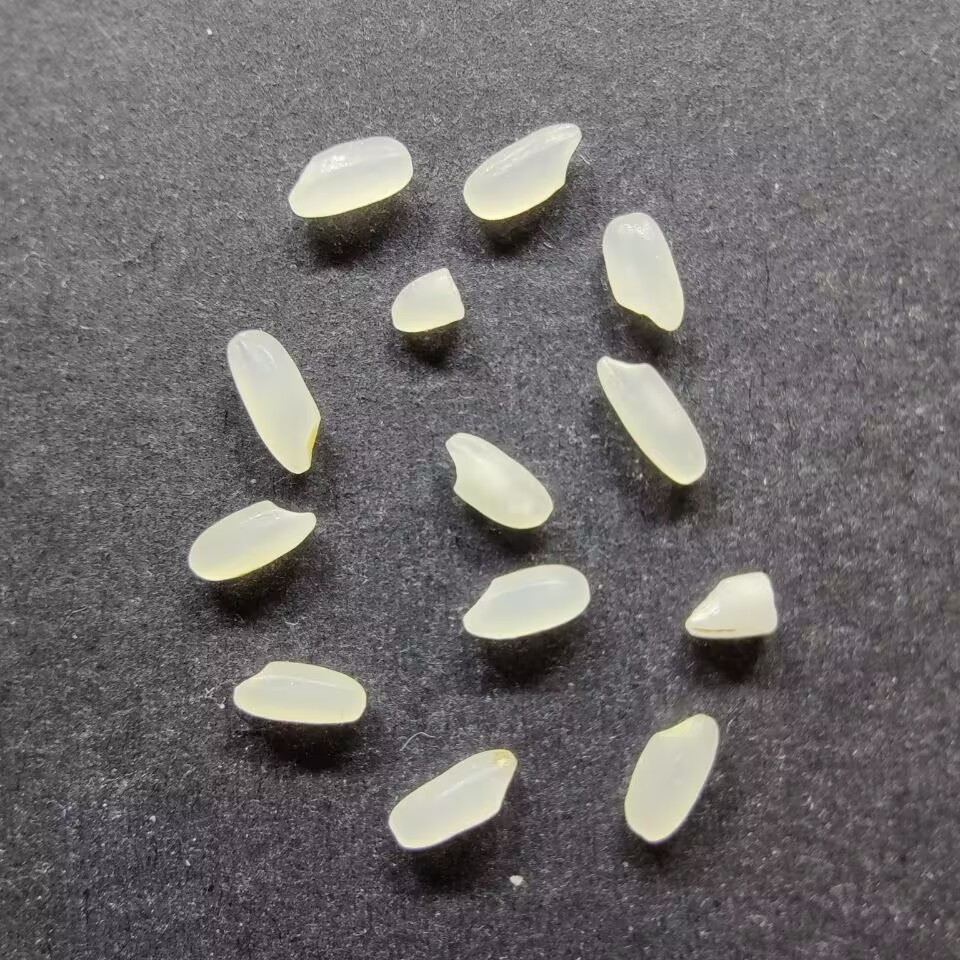broken: (684, 571, 777, 639), (390, 266, 464, 332)
rice: (595, 354, 707, 485), (225, 329, 320, 475), (387, 747, 517, 849), (623, 712, 719, 842), (462, 122, 581, 220), (444, 431, 553, 530), (187, 499, 315, 581), (287, 136, 412, 217), (601, 212, 684, 331), (461, 564, 589, 639), (232, 660, 365, 725)
